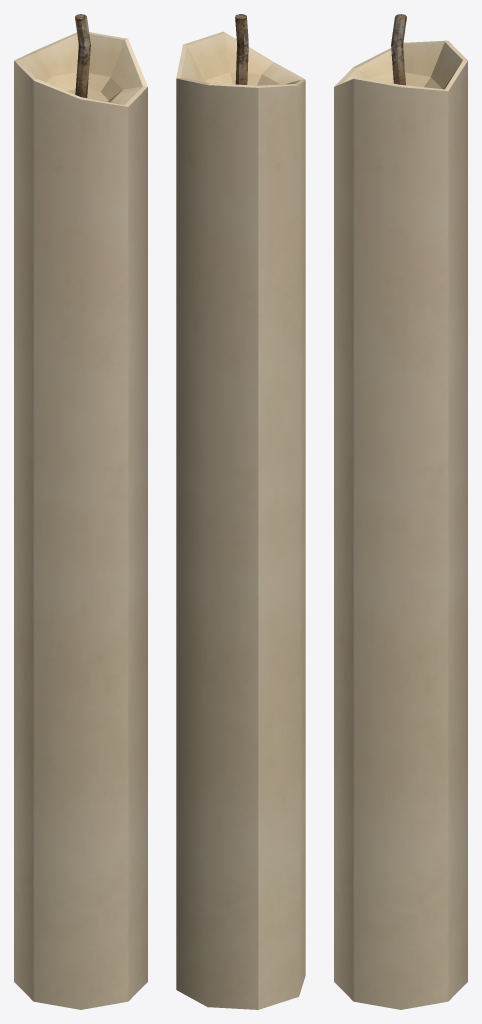
The model's file is fbx_Vela2.fbx.
3 renders of one model, left to right at view 1: azimuth 90°, elevation 25°; view 2: azimuth 150°, elevation 25°; view 3: azimuth 270°, elevation 25°, orthographic.
Visible parts, largest first — view 1: pCube102; view 2: pCube102; view 3: pCube102.
Part boxes in pixels (bbox=[...]): pCube102: bbox=[14, 14, 147, 1009]; pCube102: bbox=[176, 14, 305, 1009]; pCube102: bbox=[334, 14, 467, 1009].
Size of the model in its own units: 0.02 by 0.159 by 0.02.
Materials: 1 (1 with a texture image).
